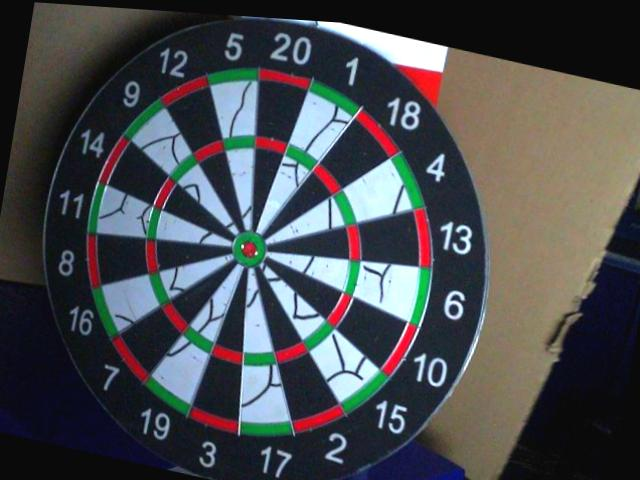bullseye: (236, 233, 265, 266)
triple_18: (314, 168, 342, 193)
triple_19: (182, 329, 215, 353)
triple_2: (275, 343, 305, 363)
triple_5: (226, 134, 253, 150)
triple_6: (344, 260, 363, 296)
triple_8: (145, 241, 162, 277)
